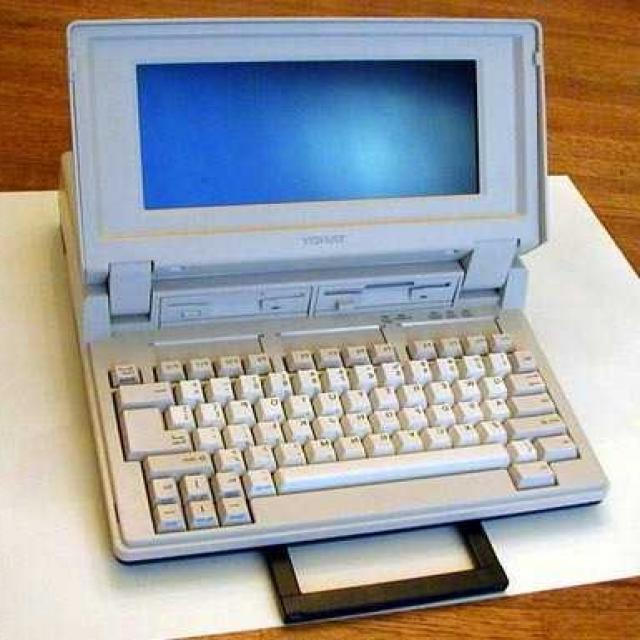laptop: (82, 18, 604, 554)
